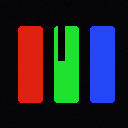4 line_v: (58, 24, 64, 60)
